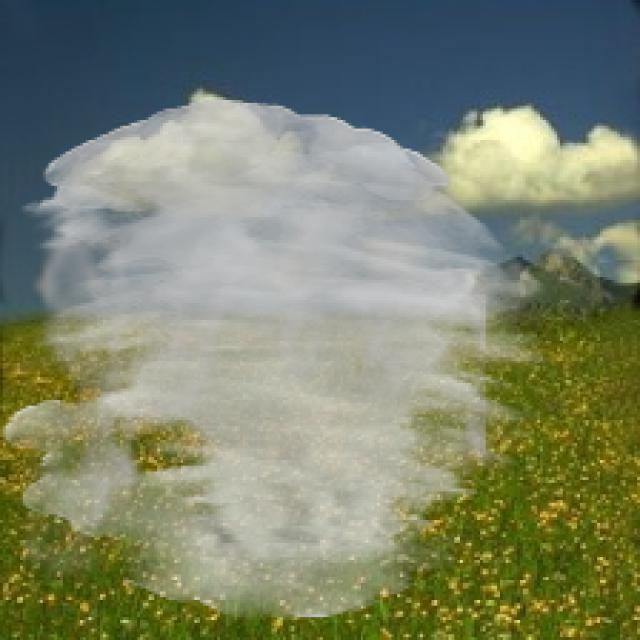Smoke: (0, 100, 552, 621)
